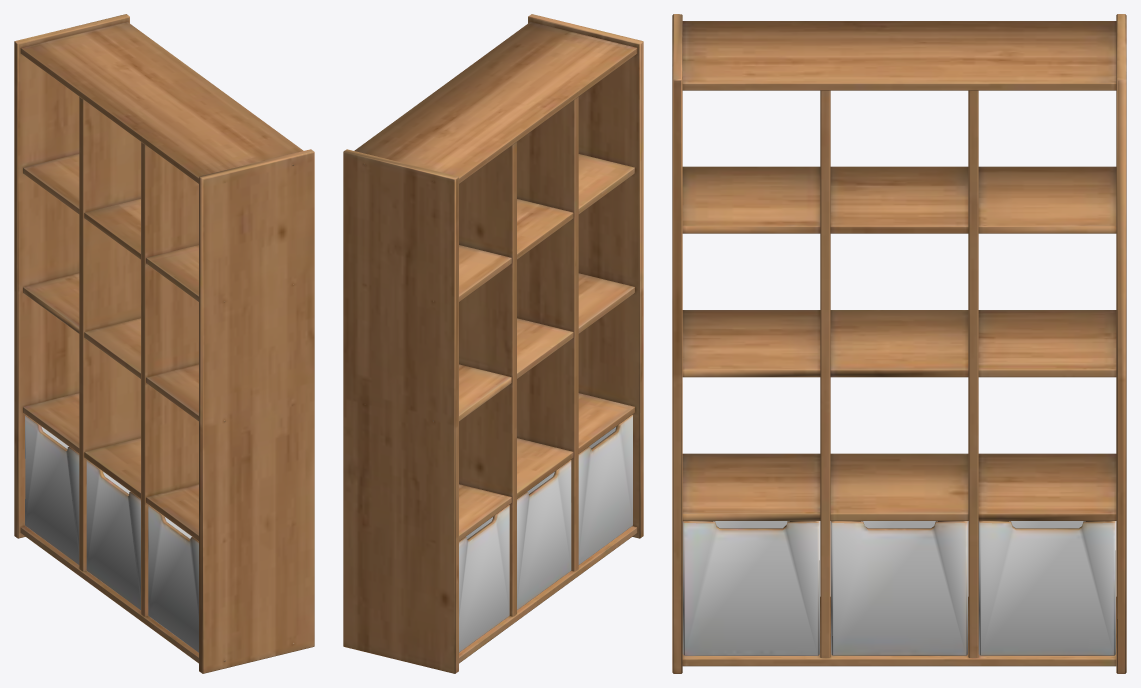
Rendered from wooden_display_shelves_01.glb.
3 renders of one model, left to right at view 1: azimuth 30°, elevation 25°; view 2: azimuth 150°, elevation 25°; view 3: azimuth 270°, elevation 25°, orthographic. The views are drawn at different scales.
Parts seen in each view (by area): view 1: wooden_display_shelves_01; view 2: wooden_display_shelves_01; view 3: wooden_display_shelves_01.
Boxes of the visible parts, x1=… form: wooden_display_shelves_01: x1=14, y1=14, x2=314, y2=673; wooden_display_shelves_01: x1=343, y1=14, x2=643, y2=673; wooden_display_shelves_01: x1=672, y1=14, x2=1126, y2=673.
Bounding box in the file's own units: 0.3714 × 1.56 × 1.08.
Materials: 1 (1 with a texture image).
